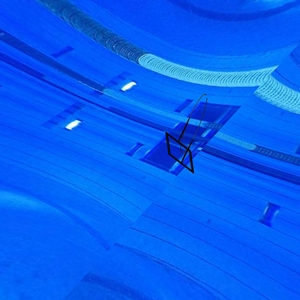circle: (164, 92, 207, 175)
